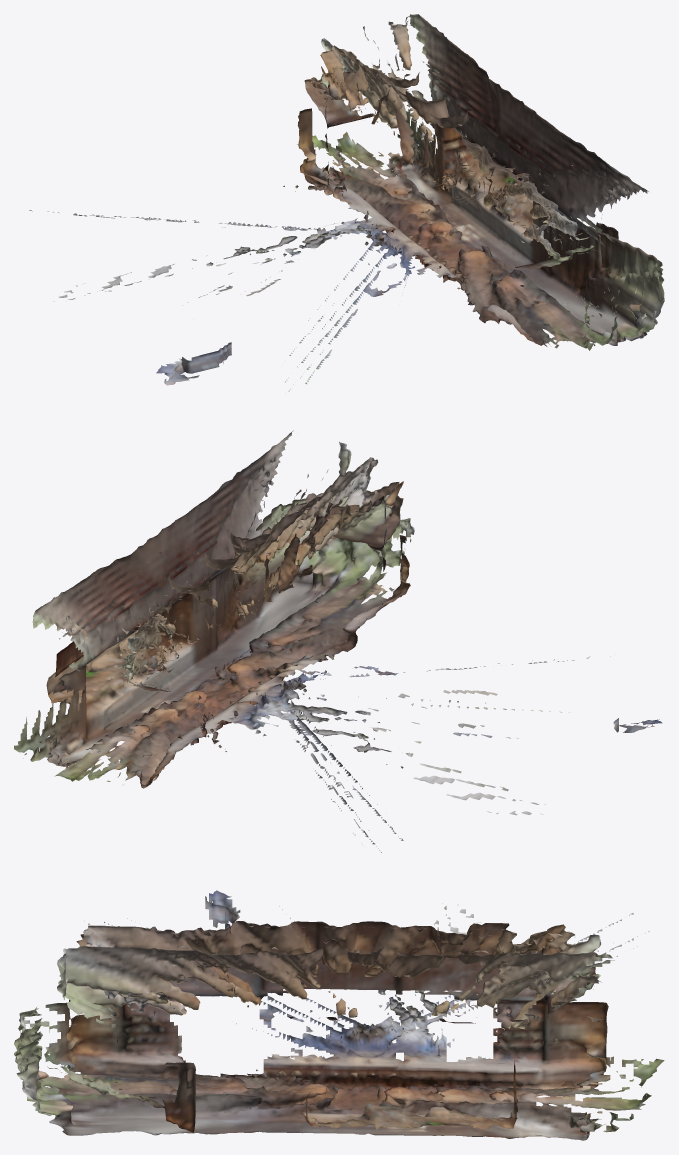
File: coffee_shop_collider.glb
3 renders of one model, top to bottom at view 1: azimuth 30°, elevation 25°; view 2: azimuth 150°, elevation 25°; view 3: azimuth 270°, elevation 25°, orthographic. The views are drawn at different scales.
Parts seen in each view (by area): view 1: world; view 2: world; view 3: world.
Part boxes in pixels (<box>): world: <box>29,14,664,393</box>; world: <box>14,430,662,852</box>; world: <box>14,890,664,1140</box>.
Bounding box in the file's own units: 21.06 × 6.65 × 23.34.
